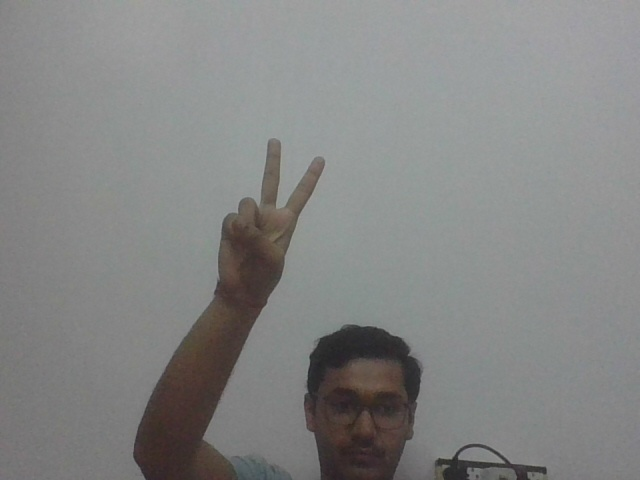V: (210, 135, 330, 306)
